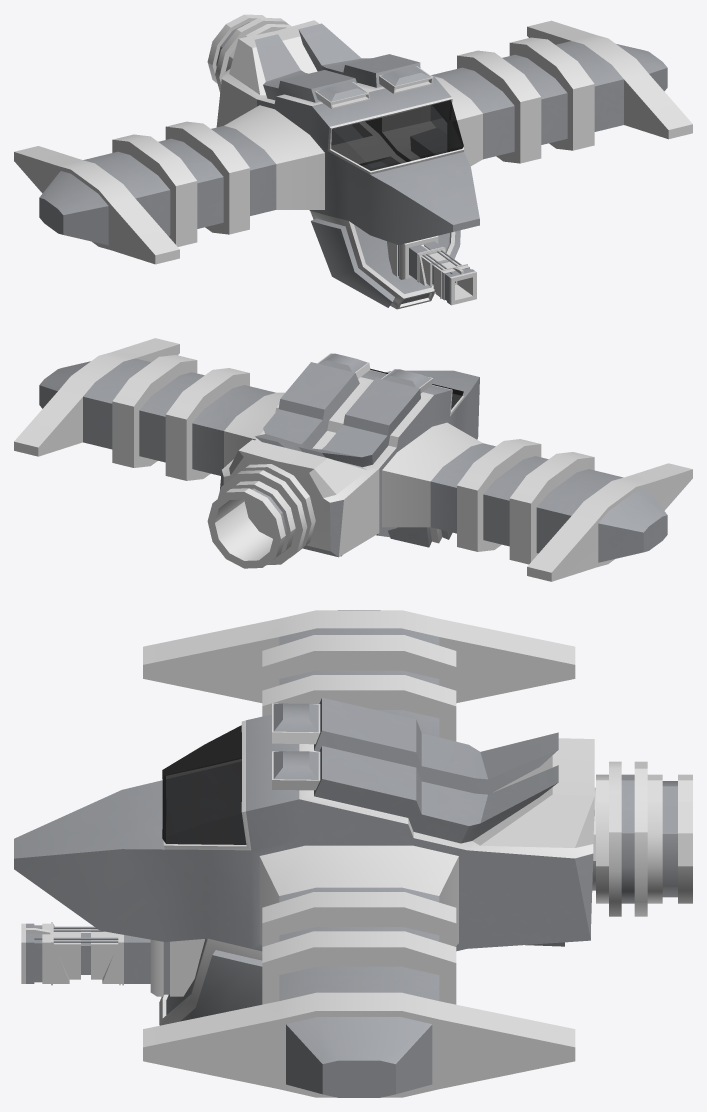
File: CAB.fbx
3 views of the same model, one above another, from view 1: azimuth 30°, elevation 25°; view 2: azimuth 150°, elevation 25°; view 3: azimuth 270°, elevation 25° (orthographic). The views are drawn at different scales.
Parts seen in each view (by area): view 1: CAB; view 2: CAB; view 3: CAB.
Boxes of the visible parts, x1=… form: CAB: x1=14, y1=14, x2=692, y2=309; CAB: x1=14, y1=338, x2=692, y2=581; CAB: x1=14, y1=610, x2=692, y2=1097.
Bounding box in the file's own units: 8.9 × 2.8 × 5.66.
